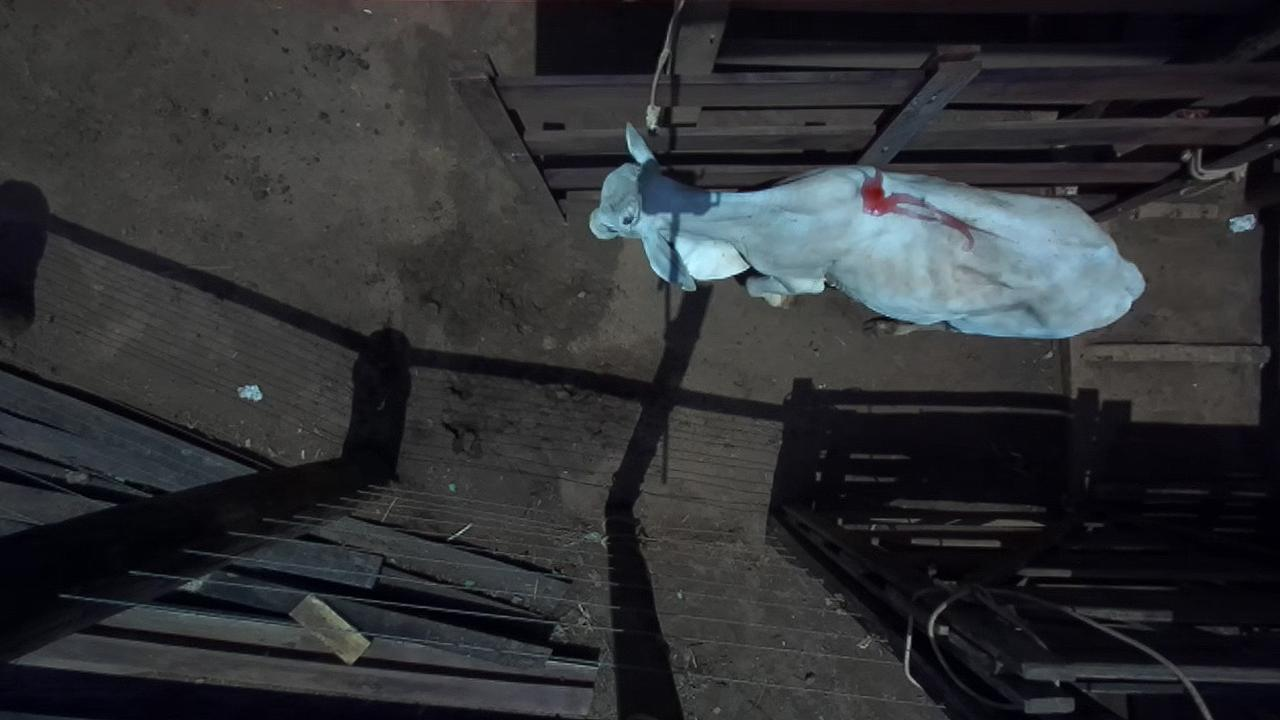cattle: (587, 120, 1147, 341)
